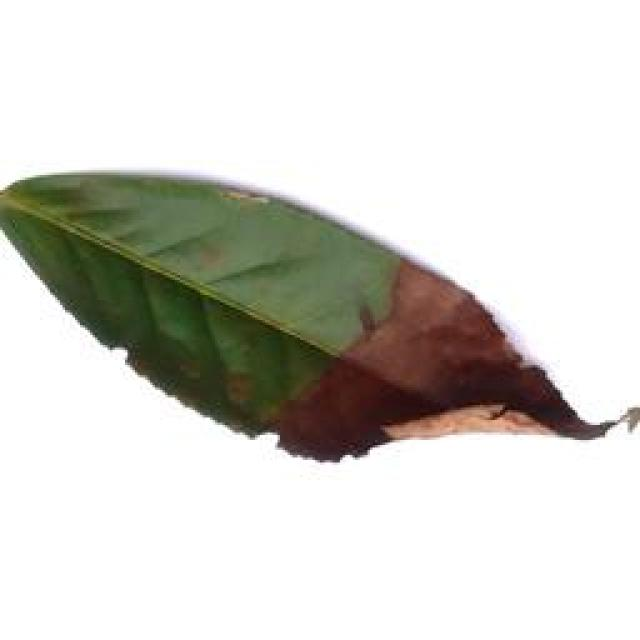Brown Blight: (2, 147, 632, 491)
